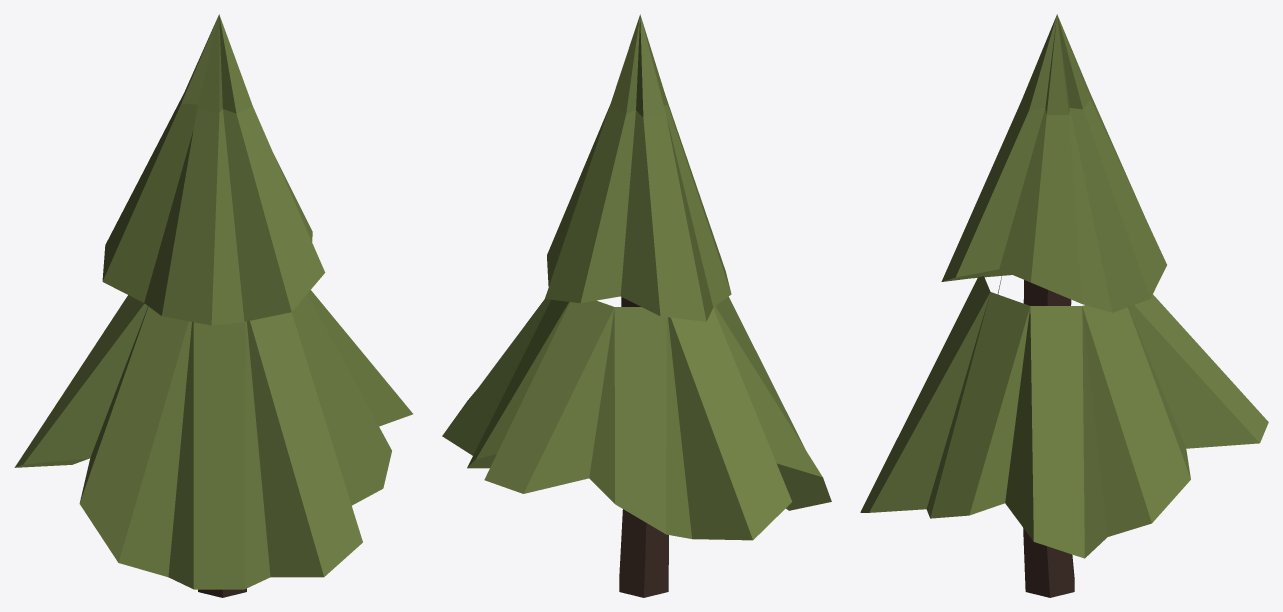
File: Tree Type2 01.glb
3 views of the same model, side by side, from view 1: azimuth 30°, elevation 25°; view 2: azimuth 150°, elevation 25°; view 3: azimuth 270°, elevation 25° (orthographic).
Visible parts, largest first — view 1: Tree_Type2_01_mesh; view 2: Tree_Type2_01_mesh; view 3: Tree_Type2_01_mesh.
Part boxes in pixels (<box>): Tree_Type2_01_mesh: <box>14,14,412,597</box>; Tree_Type2_01_mesh: <box>442,14,831,597</box>; Tree_Type2_01_mesh: <box>860,14,1268,597</box>.
Bounding box in the file's own units: 1.29 × 1.97 × 1.28.
Materials: 1 (1 with a texture image).
